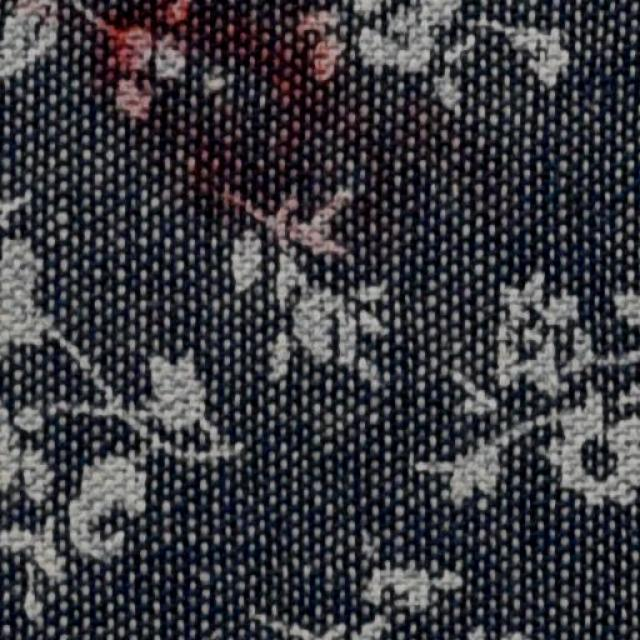Stain: (79, 0, 385, 259)
